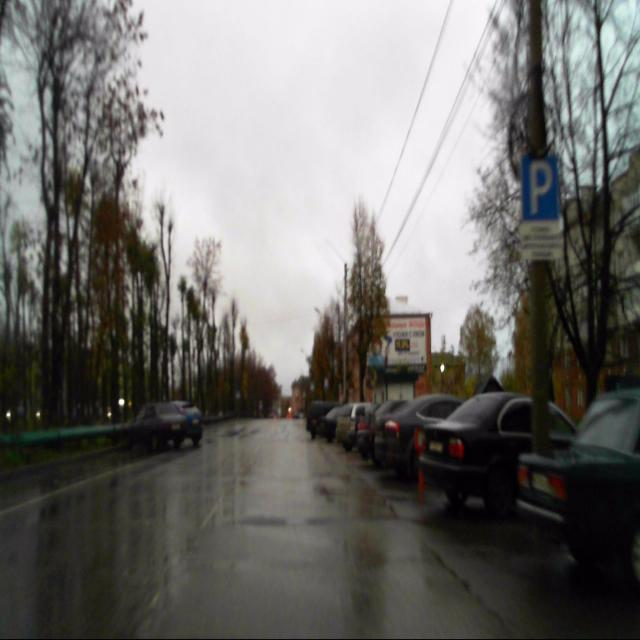road sign: (522, 156, 559, 221)
